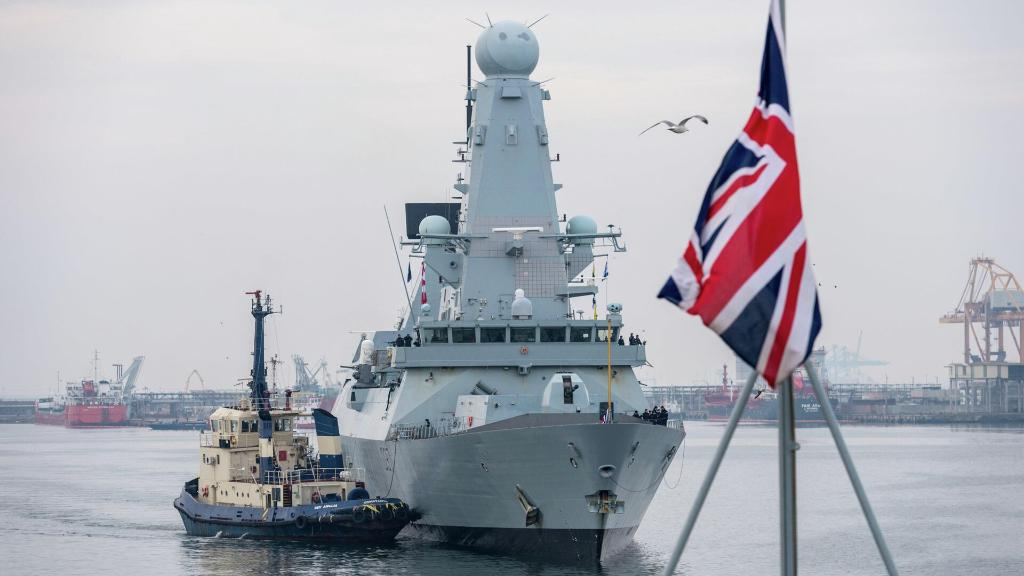Warship: (324, 10, 694, 574)
